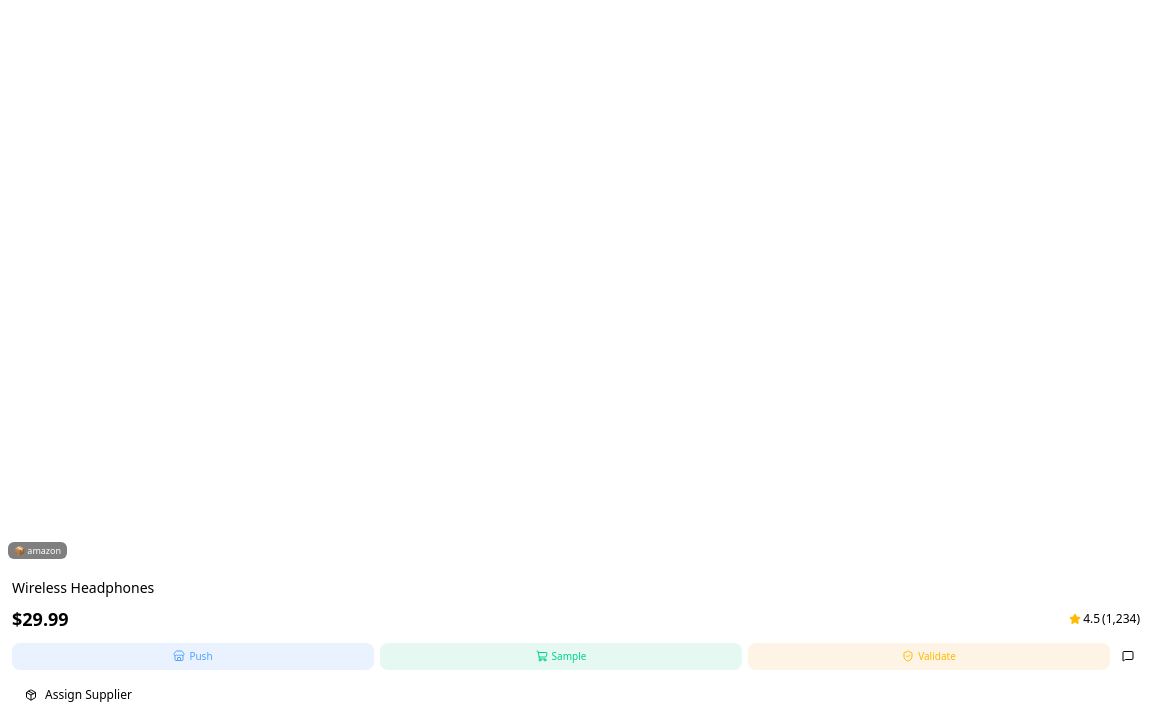
Scenario: EnrichedProductCard › does not fetch stores when the user is signed out
(page scrolled)
Click the button "Push" at x=193, y=656, box [12, 642, 374, 670]
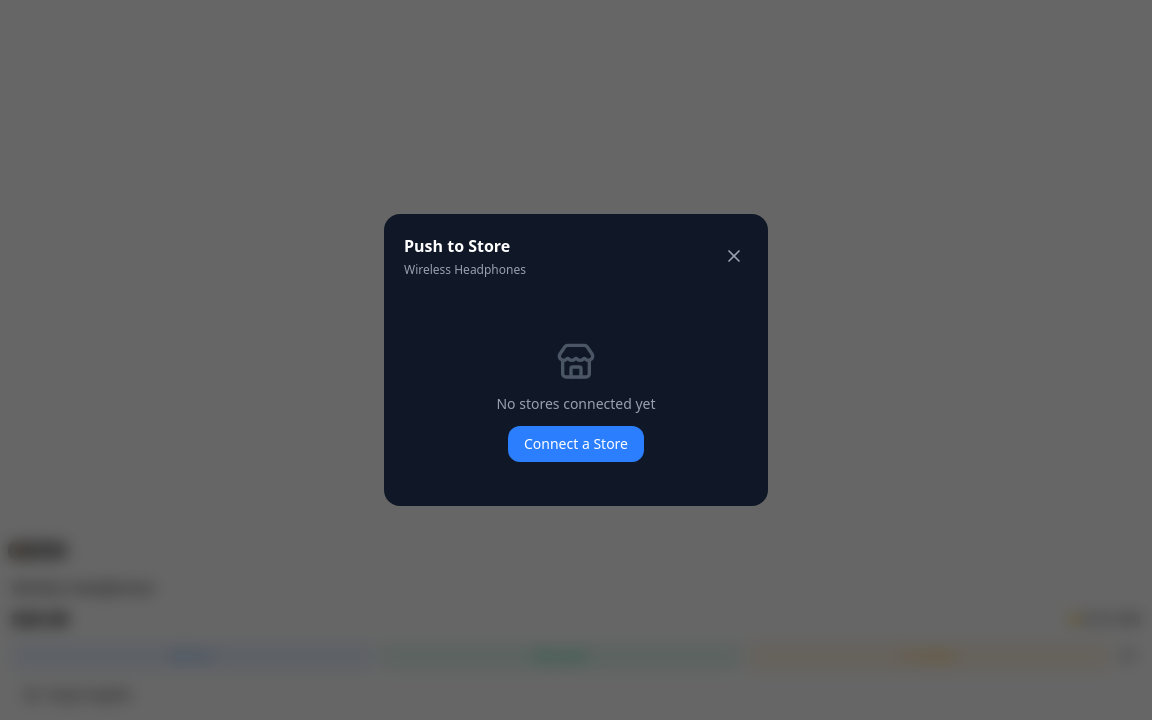
Now the dialog "Push to Store" is shown
Now the text "No stores connected yet" is shown, box [496, 394, 656, 413]
